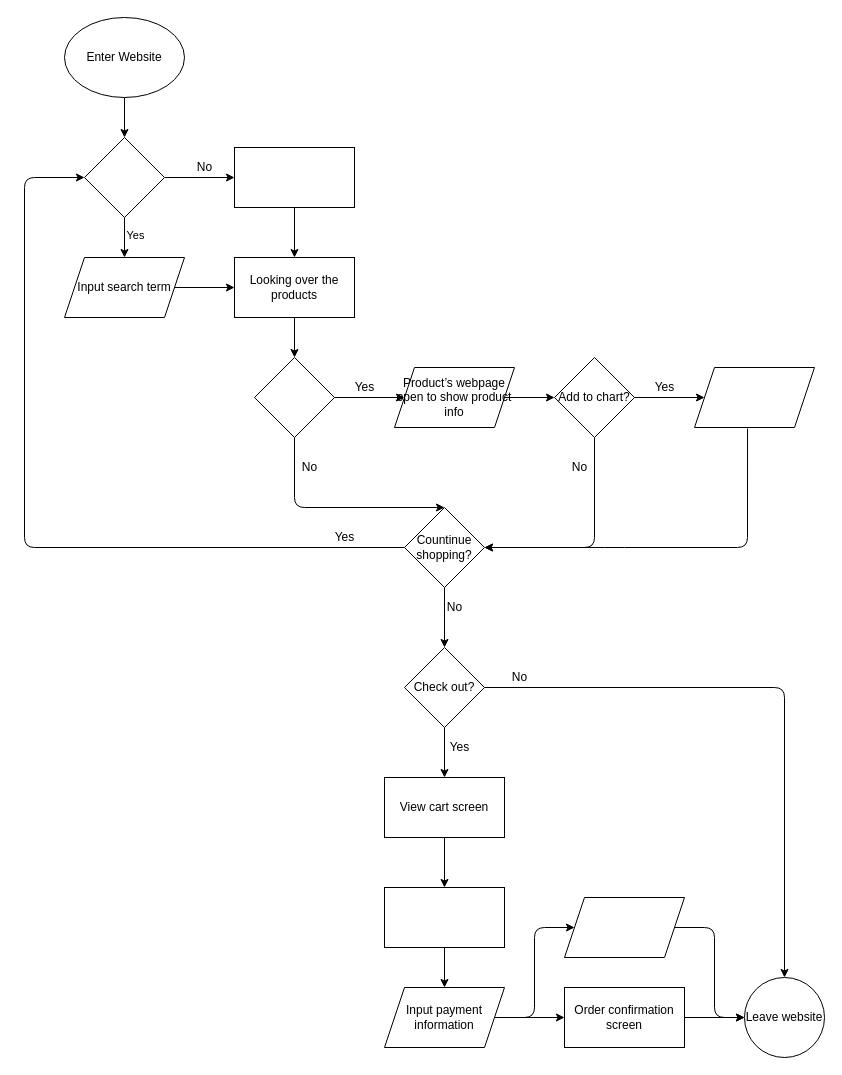
This 842x1075 diagram has some shape labels left out. Each missing label, with the centre of its shape:
"Added to chart comfirmation" goes at point (754, 397).
"Explore products on the home page" goes at point (294, 177).
"Order confirmation email" goes at point (624, 927).
"Search to view product?" goes at point (124, 177).
"View payment screen" goes at point (444, 917).
"VIew spesific product?" goes at point (294, 397).
